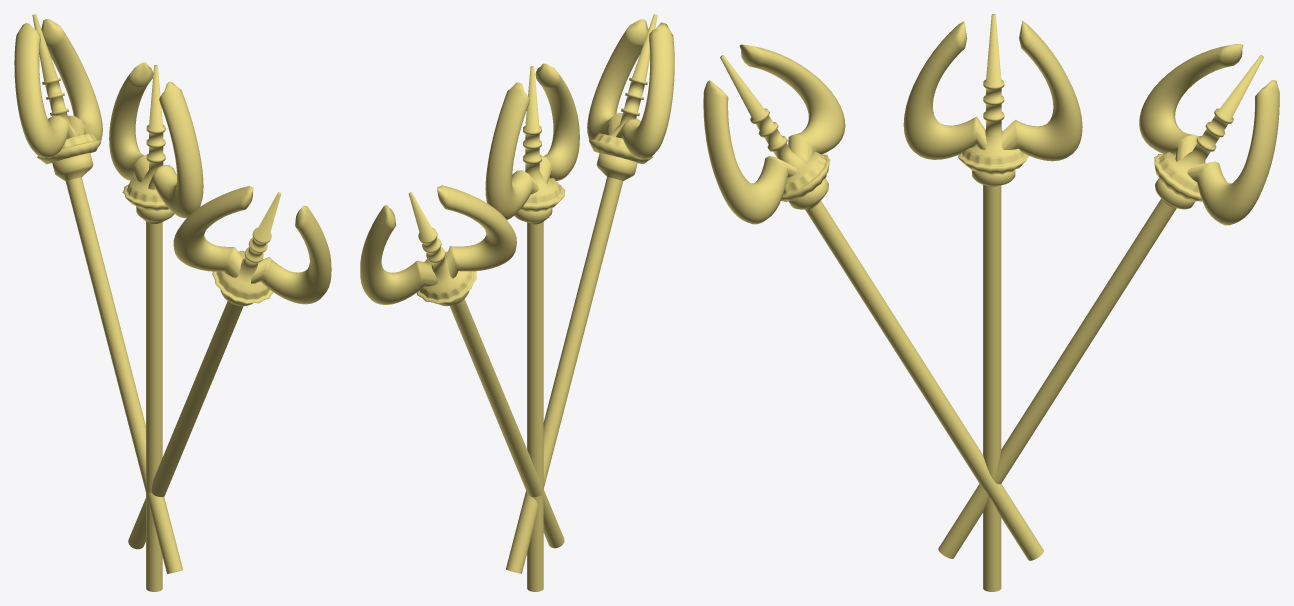
The model's file is hindu_god_spear.glb.
3 renders of one model, left to right at view 1: azimuth 30°, elevation 25°; view 2: azimuth 150°, elevation 25°; view 3: azimuth 270°, elevation 25°, orthographic. The views are drawn at different scales.
Visible parts, largest first — view 1: Cylinder.002_4, Cylinder_0, Torus_1, Torus.001_3, Torus.002_5, Cylinder.001_2; view 2: Cylinder.001_2, Cylinder_0, Torus.002_5, Torus_1, Torus.001_3, Cylinder.002_4; view 3: Cylinder.001_2, Cylinder.002_4, Cylinder_0, Torus_1, Torus.001_3, Torus.002_5.
Part boxes in pixels (x1,y1,x2,y2): Cylinder.002_4: [32, 14, 182, 573]; Cylinder_0: [122, 65, 174, 591]; Torus_1: [109, 62, 203, 218]; Torus.001_3: [173, 185, 331, 304]; Torus.002_5: [14, 19, 102, 158]; Cylinder.001_2: [128, 192, 281, 549]; Cylinder.001_2: [506, 14, 657, 573]; Cylinder_0: [514, 66, 565, 591]; Torus.002_5: [360, 185, 516, 304]; Torus_1: [485, 63, 579, 219]; Torus.001_3: [587, 19, 674, 159]; Cylinder.002_4: [408, 192, 564, 548]; Cylinder.001_2: [720, 55, 1043, 560]; Cylinder.002_4: [938, 55, 1263, 558]; Cylinder_0: [958, 14, 1028, 591]; Torus_1: [903, 21, 1082, 161]; Torus.001_3: [703, 44, 845, 224]; Torus.002_5: [1139, 44, 1279, 225].
Size of the model in its own units: 0.3854 by 1.69 by 1.54.
